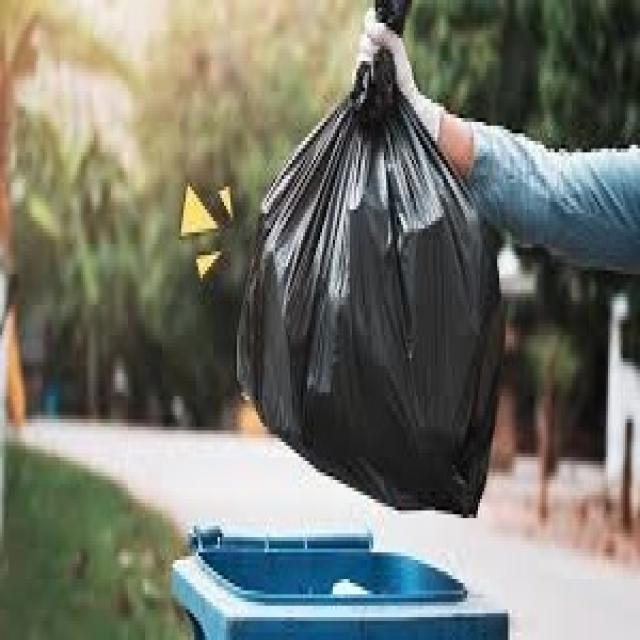sampah-detection: (237, 0, 506, 522)
